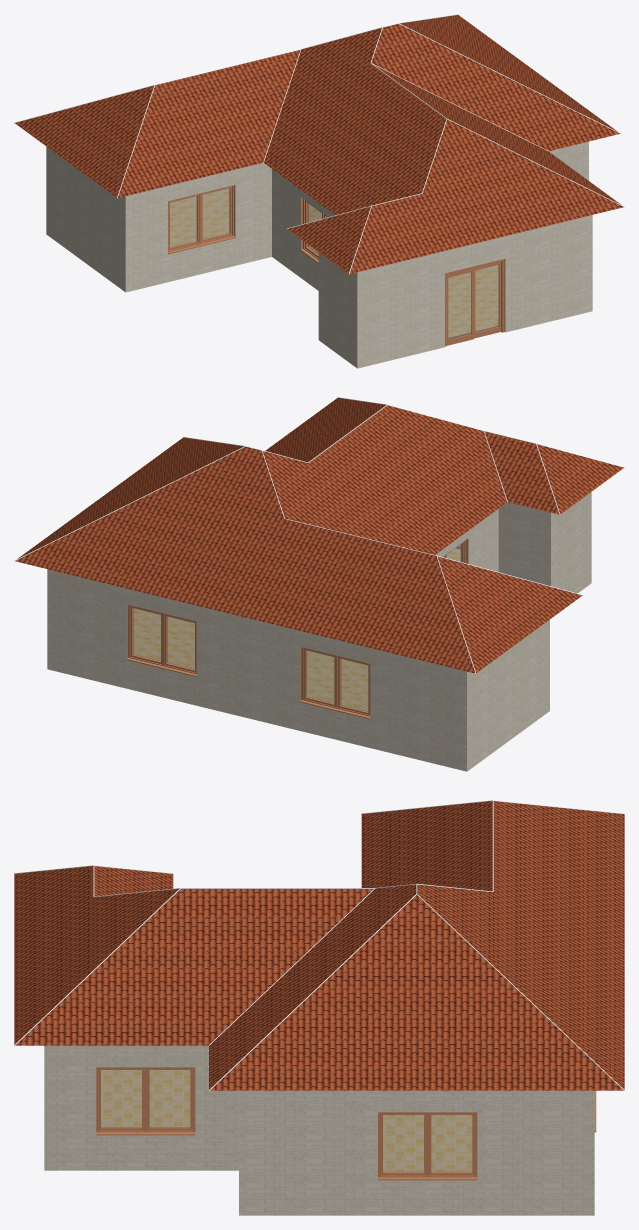
Rendered from telhado38N.glb.
3 renders of one model, top to bottom at view 1: azimuth 30°, elevation 25°; view 2: azimuth 150°, elevation 25°; view 3: azimuth 270°, elevation 25°, orthographic. The views are drawn at different scales.
Parts seen in each view (by area): view 1: object 2, object 38, object 39, root, object 40; view 2: object 2, object 38, object 39, root, object 40; view 3: object 2, object 38, object 39, root, object 40.
Part boxes in pixels (x1,y1,x2,y2): object 2: (15, 15, 623, 273); object 38: (46, 141, 592, 368); object 39: (170, 188, 498, 339); root: (170, 188, 498, 337); object 40: (168, 185, 505, 346); object 2: (15, 398, 623, 673); object 38: (47, 492, 591, 771); object 39: (133, 544, 461, 711); root: (133, 548, 460, 711); object 40: (126, 538, 468, 719); object 2: (14, 801, 624, 1090); object 38: (44, 1045, 594, 1215); object 39: (101, 1070, 472, 1172); root: (101, 1070, 472, 1171); object 40: (96, 1067, 596, 1180).
Size of the model in its own units: 13.22 by 5.49 by 12.32.
Materials: 10 (4 with a texture image).
